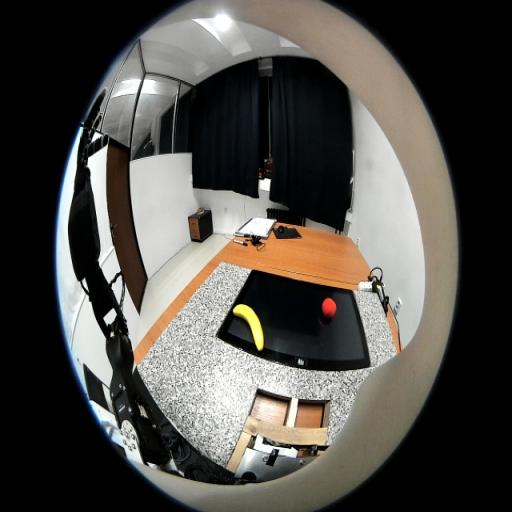Banana: (233, 304, 264, 351)
LeftHand: (77, 129, 90, 168)
Tomato: (321, 297, 337, 318)
